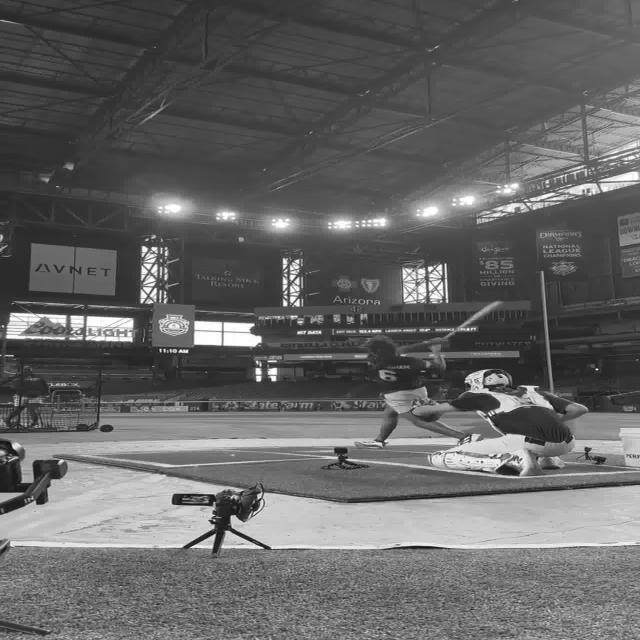baseball: (235, 236, 247, 242)
baseball_glove: (407, 397, 441, 422)
bat: (426, 300, 502, 349)
shoe: (512, 448, 534, 475), (537, 456, 566, 469), (456, 432, 482, 446), (353, 439, 387, 449)
